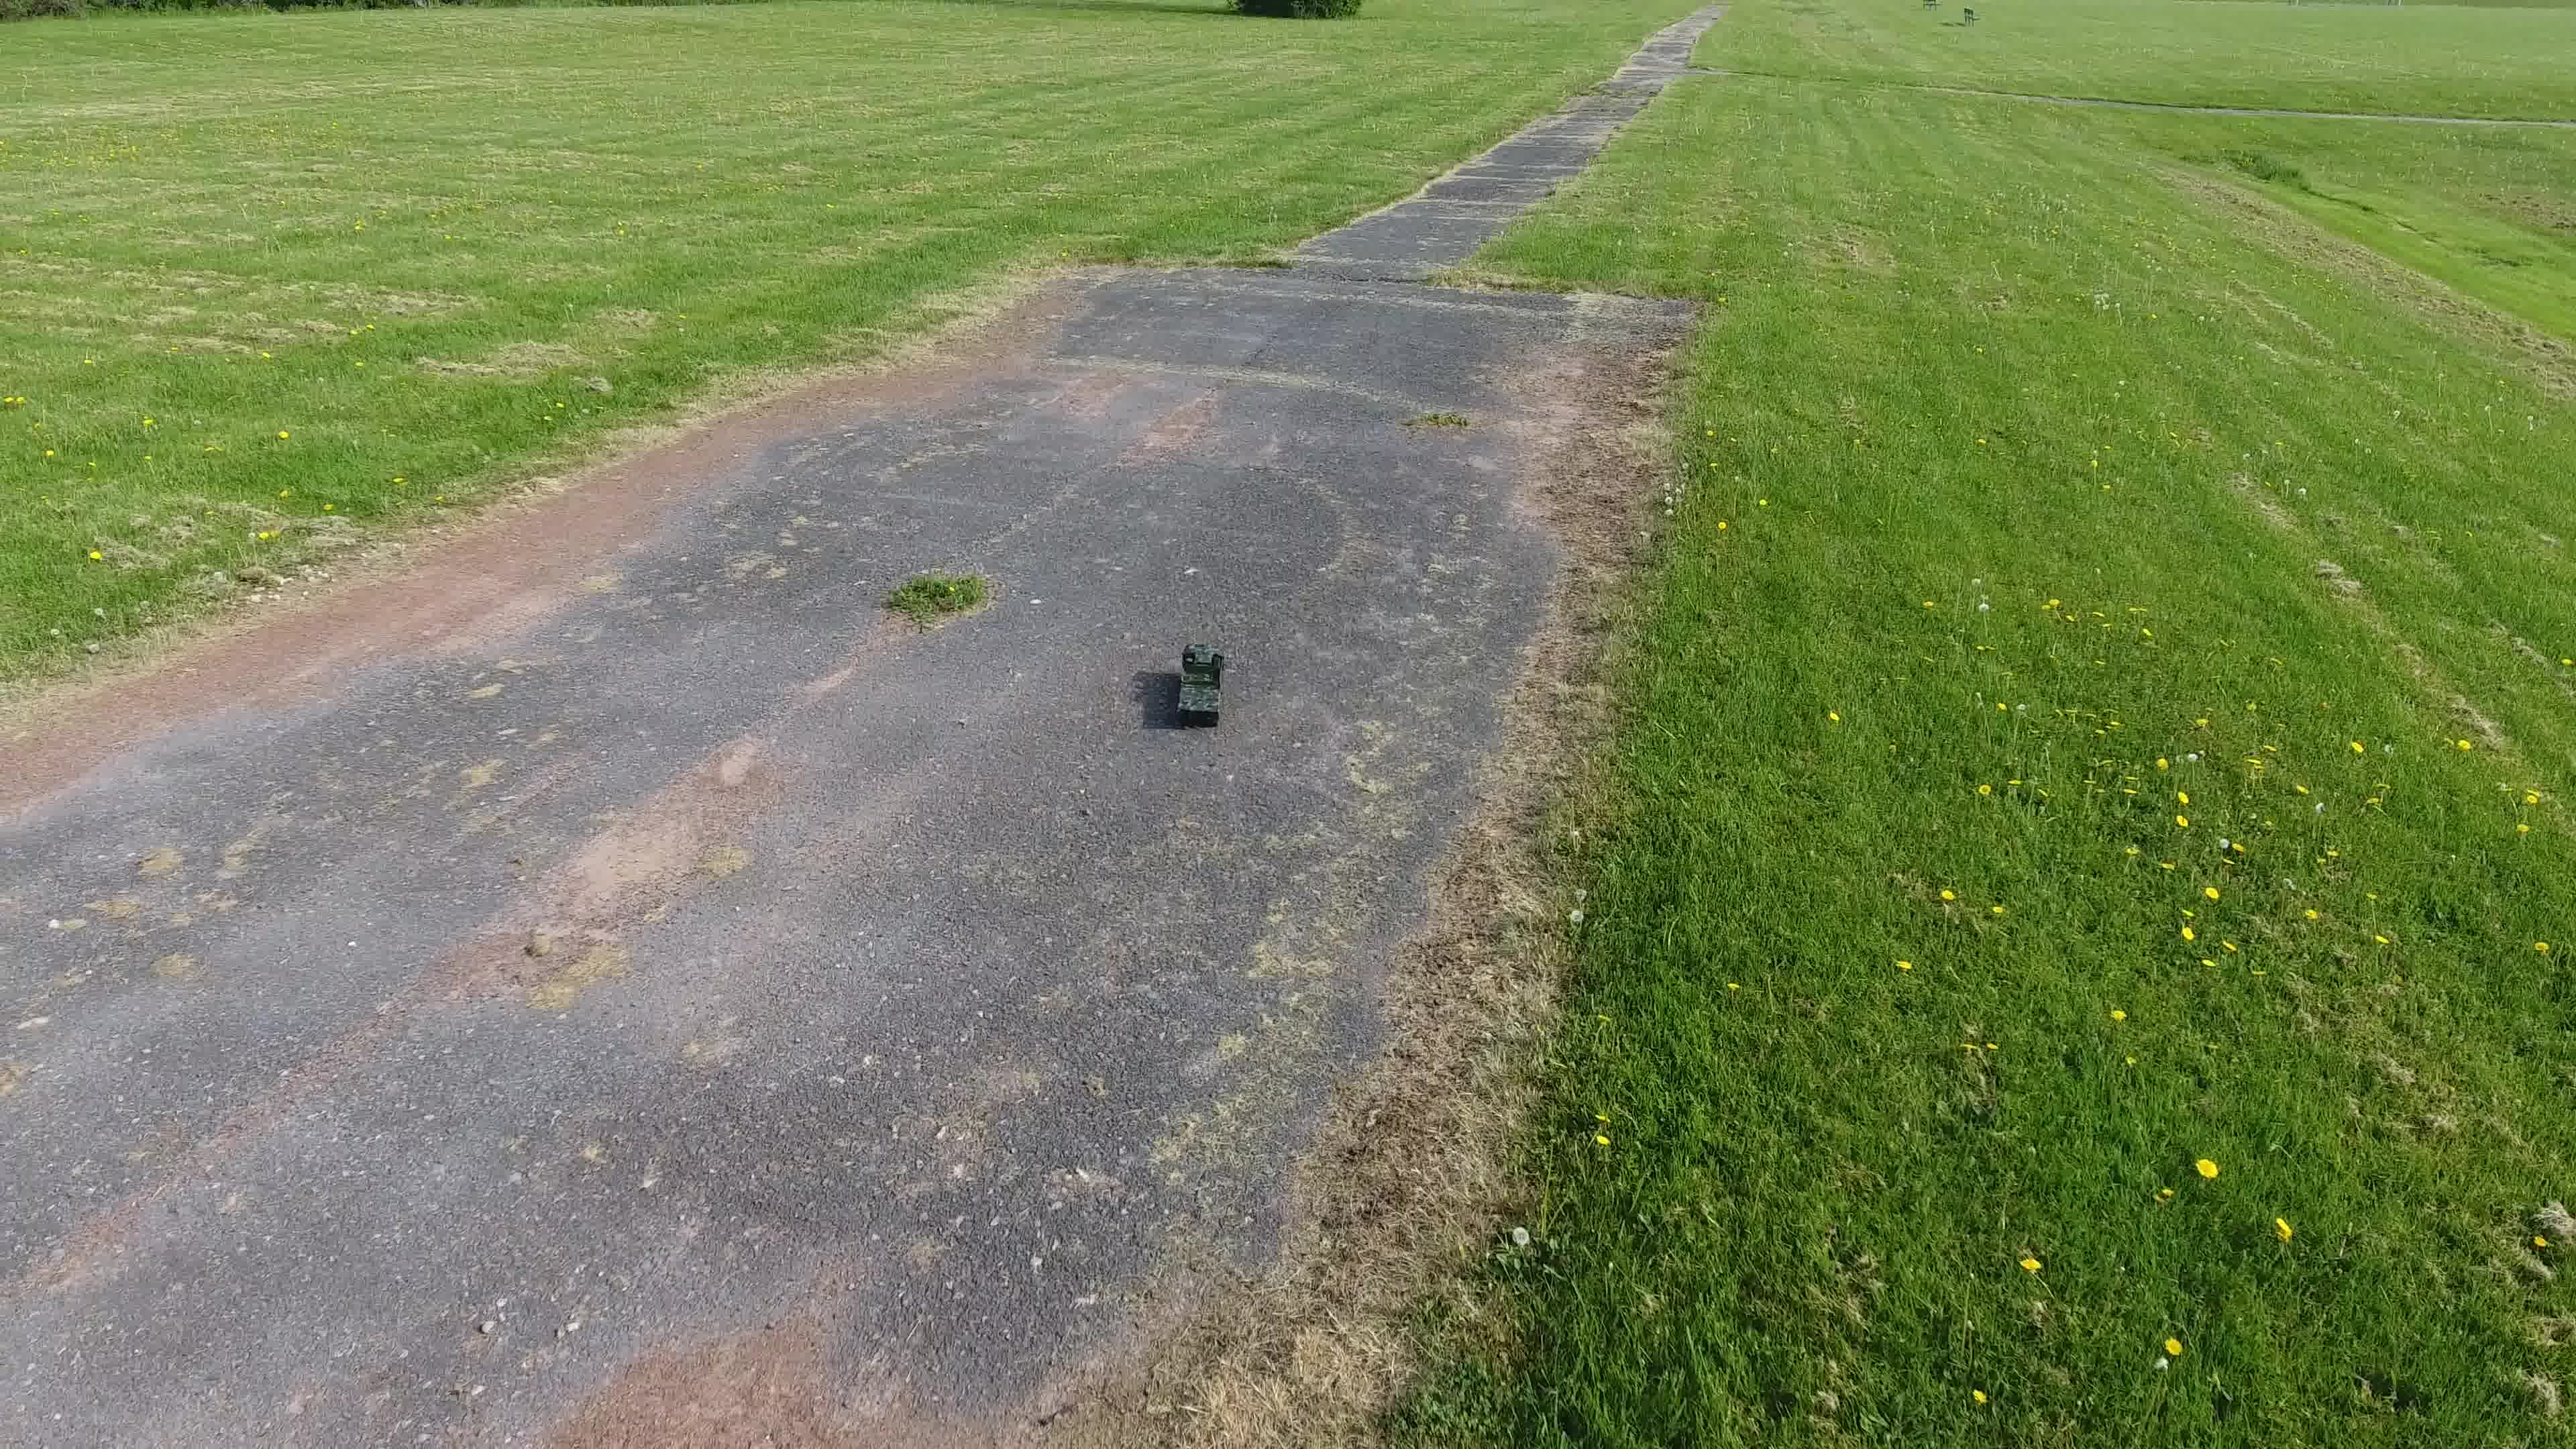transporter9: (1168, 642, 1226, 732)
